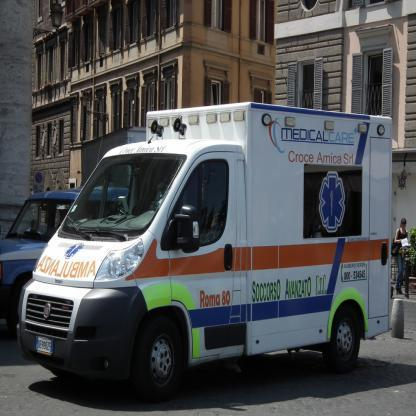Ambulance - v1 Ambulance last generate: (15, 99, 393, 399)
